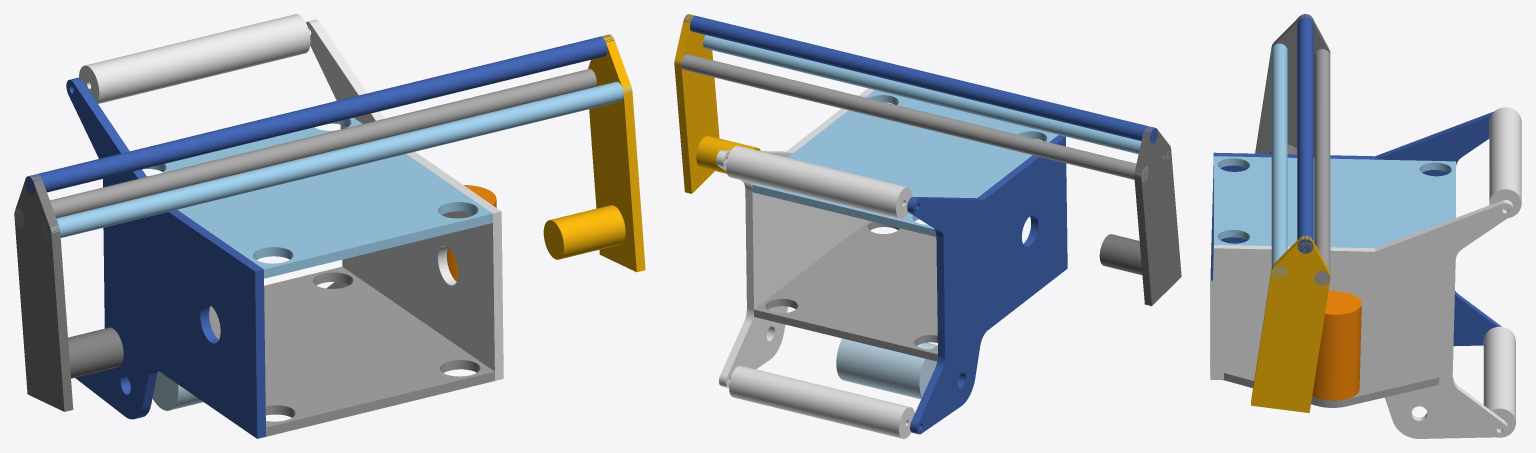
3 renders of one model, left to right at view 1: azimuth 30°, elevation 25°; view 2: azimuth 150°, elevation 25°; view 3: azimuth 270°, elevation 25°, orthographic. The views are drawn at different scales.
Parts seen in each view (by area): view 1: Part 3, Part 2, Part 1, Part 4, Part 11, Part 9, Part 7, Part 10, Part 8, Part 12, Part 5; view 2: Part 3, Part 2, Part 1, Part 12 (×2), Part 4, Part 11, Part 10, Part 7, Part 9, Part 8, Part 5; view 3: Part 4, Part 1, Part 8, Part 12 (×2), Part 3, Part 6, Part 11, Part 9, Part 10, Part 7, Part 2.
Boxes of the visible parts, box(x1,y1,x2,y2) form: Part 3: box(66, 77, 265, 438); Part 2: box(209, 266, 494, 436); Part 1: box(144, 117, 492, 278); Part 4: box(306, 19, 503, 380); Part 11: box(25, 34, 614, 195); Part 9: box(42, 81, 632, 240); Part 7: box(14, 174, 123, 411); Part 10: box(14, 69, 596, 227); Part 8: box(543, 34, 645, 272); Part 12: box(79, 14, 310, 103); Part 5: box(152, 371, 203, 410); Part 3: box(907, 135, 1067, 434); Part 2: box(754, 220, 937, 361); Part 1: box(752, 90, 1058, 236); Part 12 (×2): box(726, 145, 914, 438); Part 4: box(716, 88, 874, 387); Part 11: box(683, 14, 1157, 143); Part 10: box(674, 54, 1148, 181); Part 7: box(1099, 126, 1181, 305); Part 9: box(703, 35, 1168, 160); Part 8: box(674, 14, 760, 193); Part 5: box(836, 338, 937, 399); Part 4: box(1210, 200, 1513, 438); Part 1: box(1213, 156, 1455, 248); Part 8: box(1251, 235, 1330, 412); Part 12 (×2): box(1483, 107, 1521, 437); Part 3: box(1210, 111, 1501, 346); Part 6: box(1312, 291, 1361, 400); Part 11: box(1297, 14, 1313, 253); Part 9: box(1271, 43, 1287, 279); Part 10: box(1314, 49, 1330, 285); Part 7: box(1255, 14, 1330, 154); Part 2: box(1210, 280, 1439, 407).
Size of the model in its own units: 0.4191 by 0.2346 by 0.2448.
